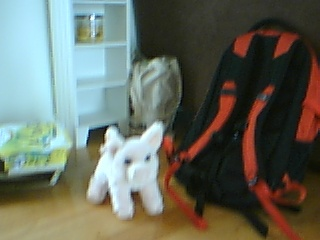piggy: (85, 120, 167, 221)
